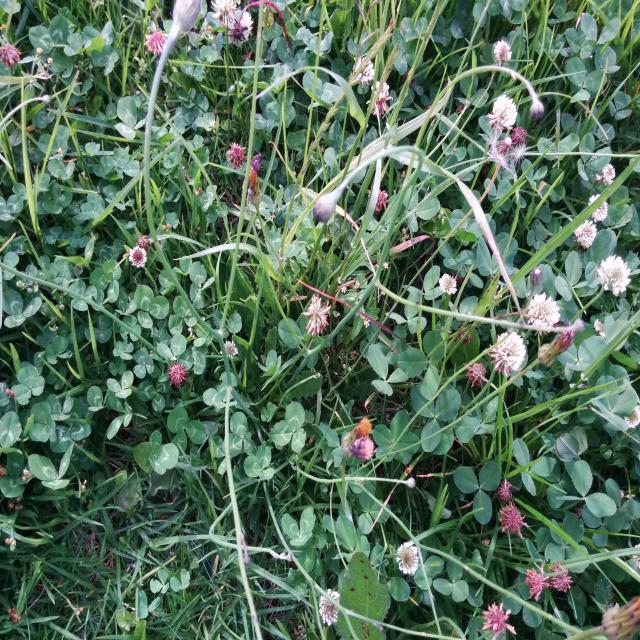Four Leaf Clover: (590, 375, 636, 431), (373, 410, 420, 464), (547, 513, 589, 573)
